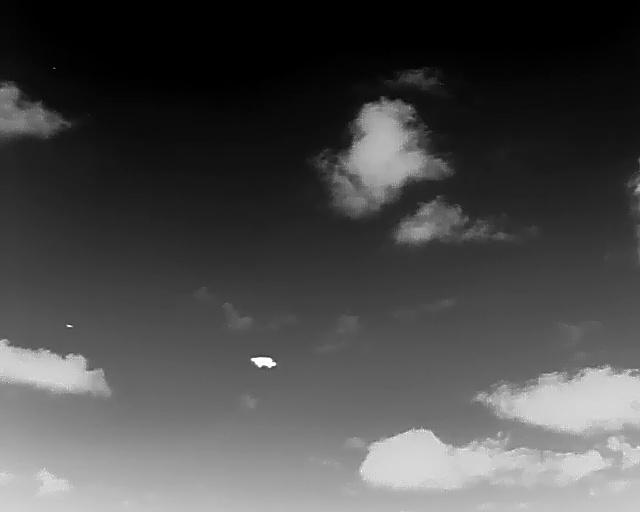fpv-drone: (250, 356, 276, 368)
